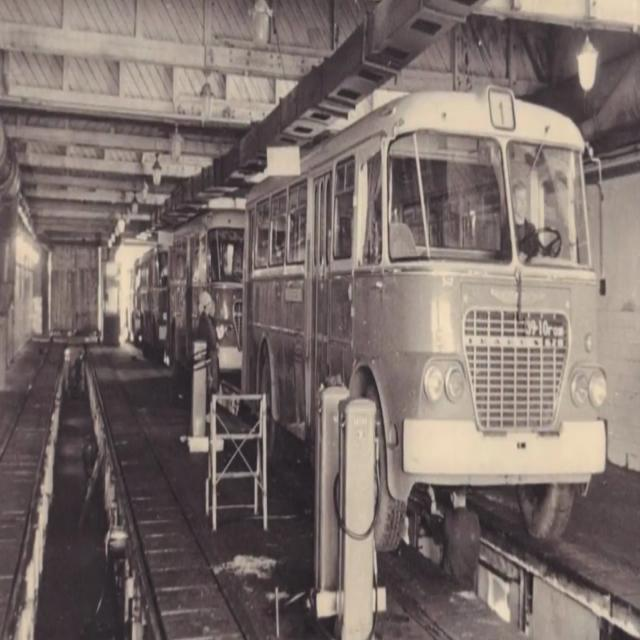bus: (244, 72, 611, 582), (165, 207, 242, 387)
